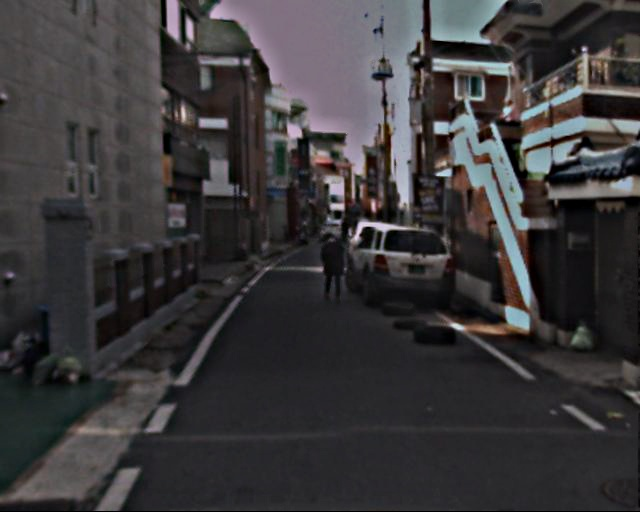person: (317, 230, 349, 308)
